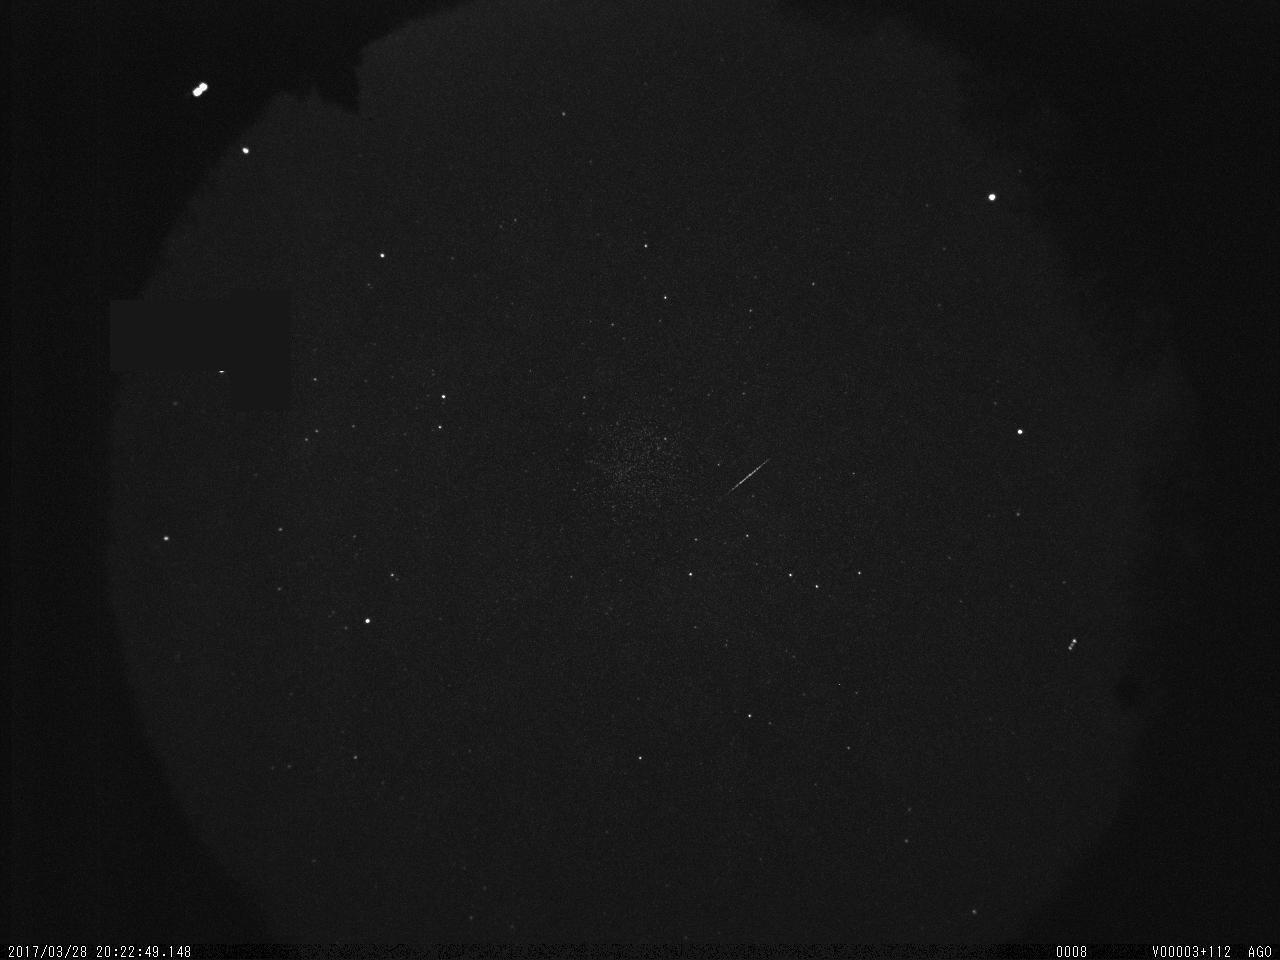Meteor: (720, 450, 782, 504)
